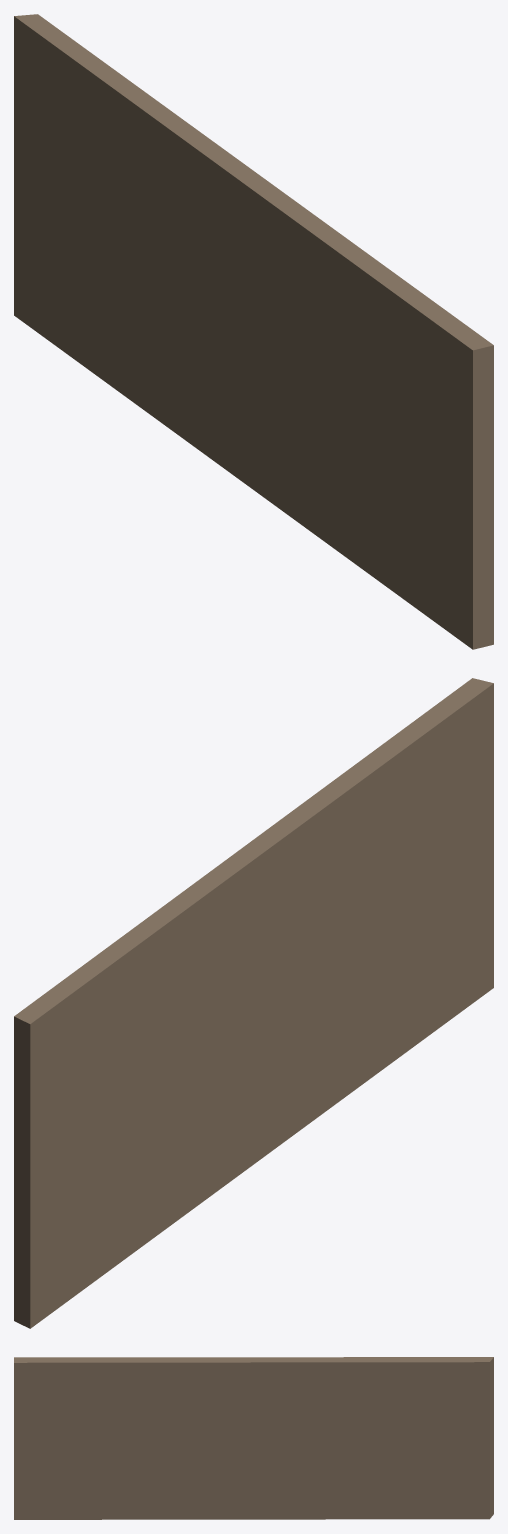
3 views of the same model, one above another, from view 1: azimuth 30°, elevation 25°; view 2: azimuth 150°, elevation 25°; view 3: azimuth 270°, elevation 25° (orthographic). The views are drawn at different scales.
Parts seen in each view (by area): view 1: Cube.008; view 2: Cube.008; view 3: Cube.008.
Boxes of the visible parts, <box> form: Cube.008: <box>14,14,493,649</box>; Cube.008: <box>14,678,493,1328</box>; Cube.008: <box>14,1357,493,1519</box>.
Size of the model in its own units: 0.102 by 1.28 by 3.56.
